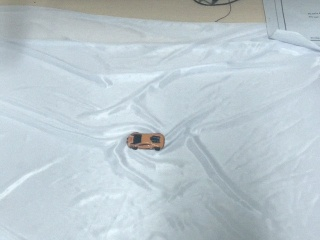toy_car: (127, 131, 166, 151)
